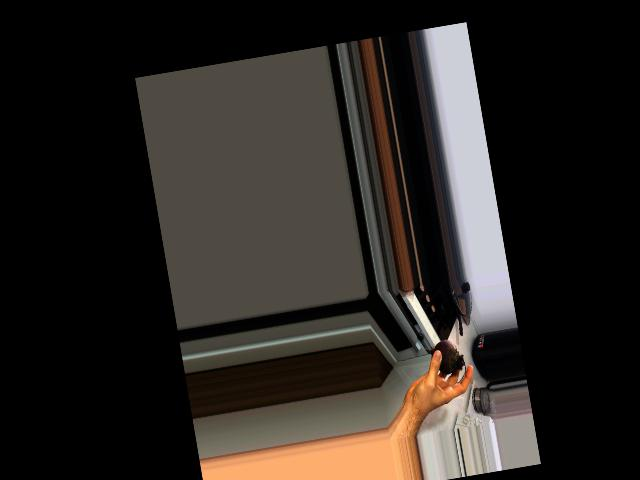beet: (423, 337, 467, 386)
